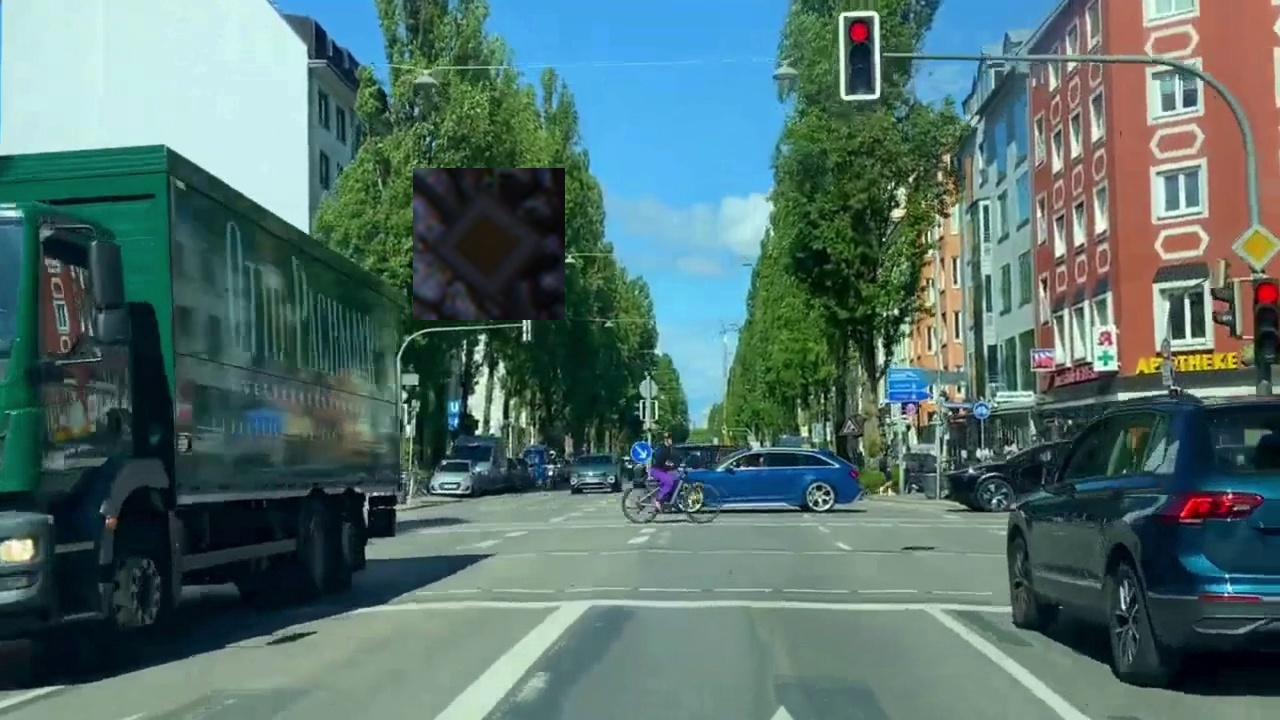Priority road: (413, 168, 565, 320)
